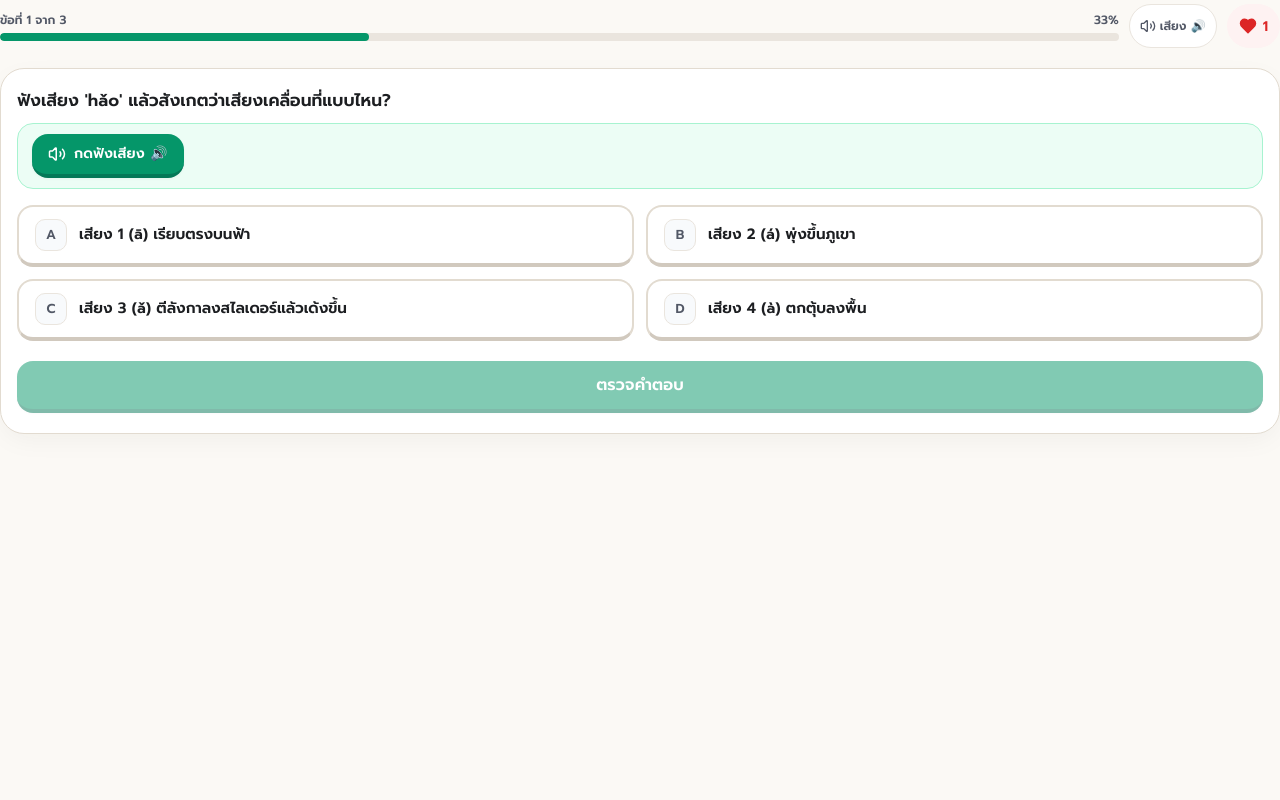
Test: QuizContainer Component (Phase 2 Slice 2.5) › Hearts Depleted Recovery › shows refill modal when hearts reach 0 and refills safely on button click
Click the radio button labelled "A เสียง 1 (ā) เรียบตรงบนฟ้า" at [51, 235], box [17, 205, 634, 267]
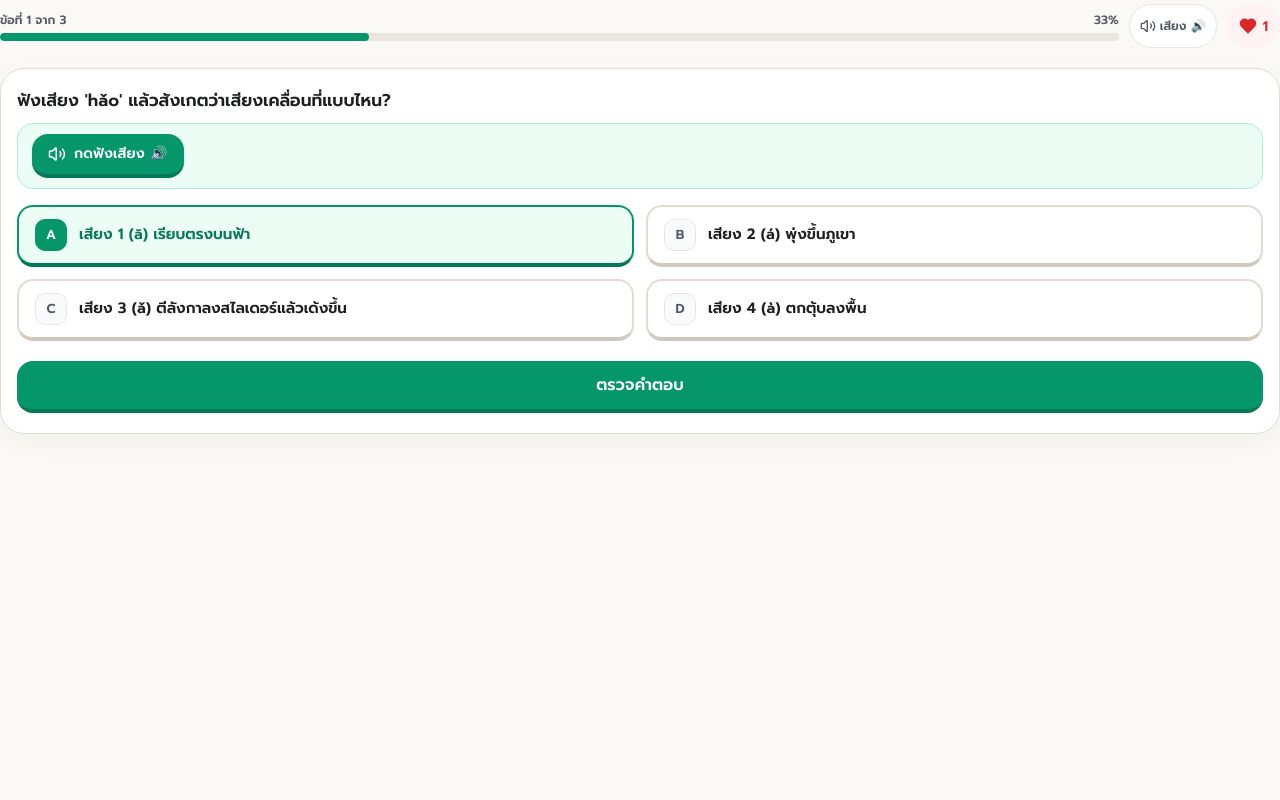
Click the button with aria-label "ตรวจคำตอบ" at [640, 387], box [17, 361, 1263, 413]
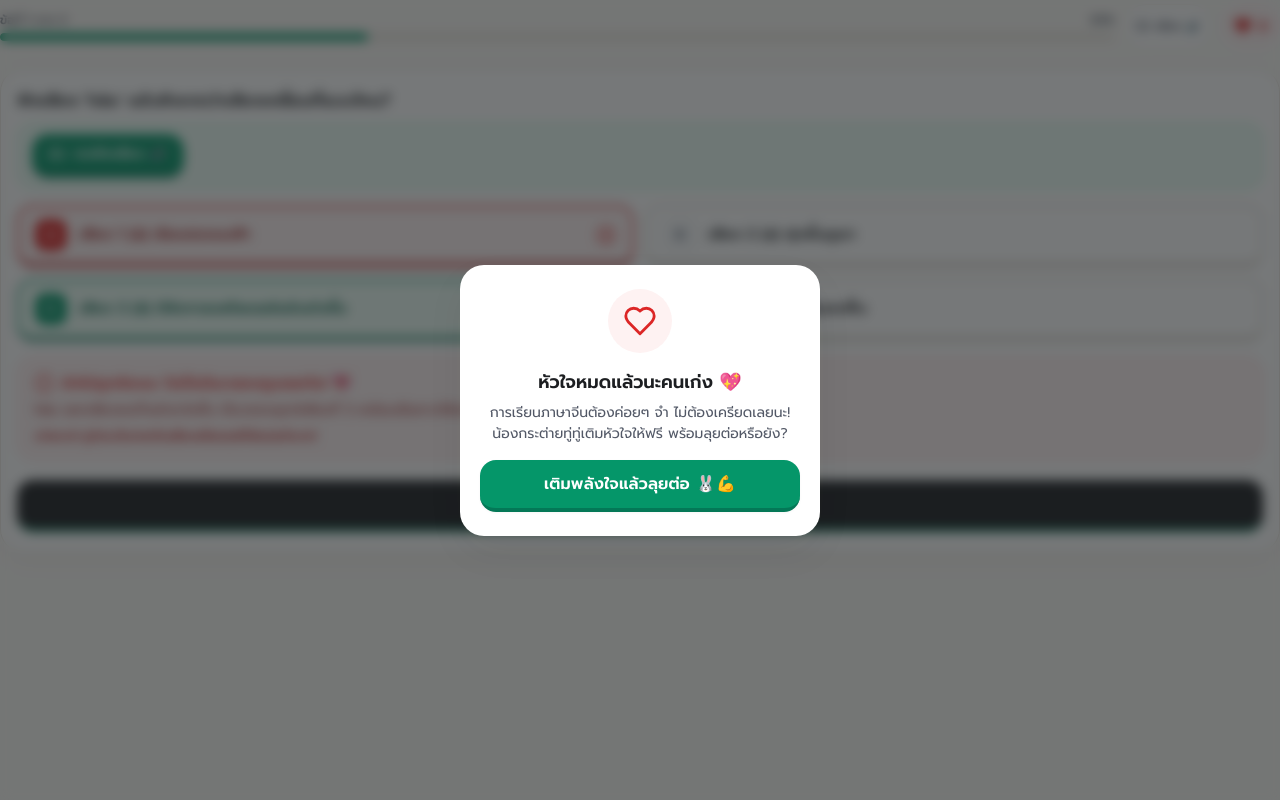
Expected: the text "หัวใจหมดแล้วนะคนเก่ง 💖" is shown, [538, 368, 742, 396]
Expected: the text "น้องกระต่ายทู่ทู่เติมหัวใจให้ฟรี" is shown, [490, 402, 790, 444]
Expected: the button with aria-label "เติมพลังใจแล้วลุยต่อ" is shown
Click the button with aria-label "เติมพลังใจแล้วลุยต่อ" at [640, 486], box [480, 460, 800, 512]
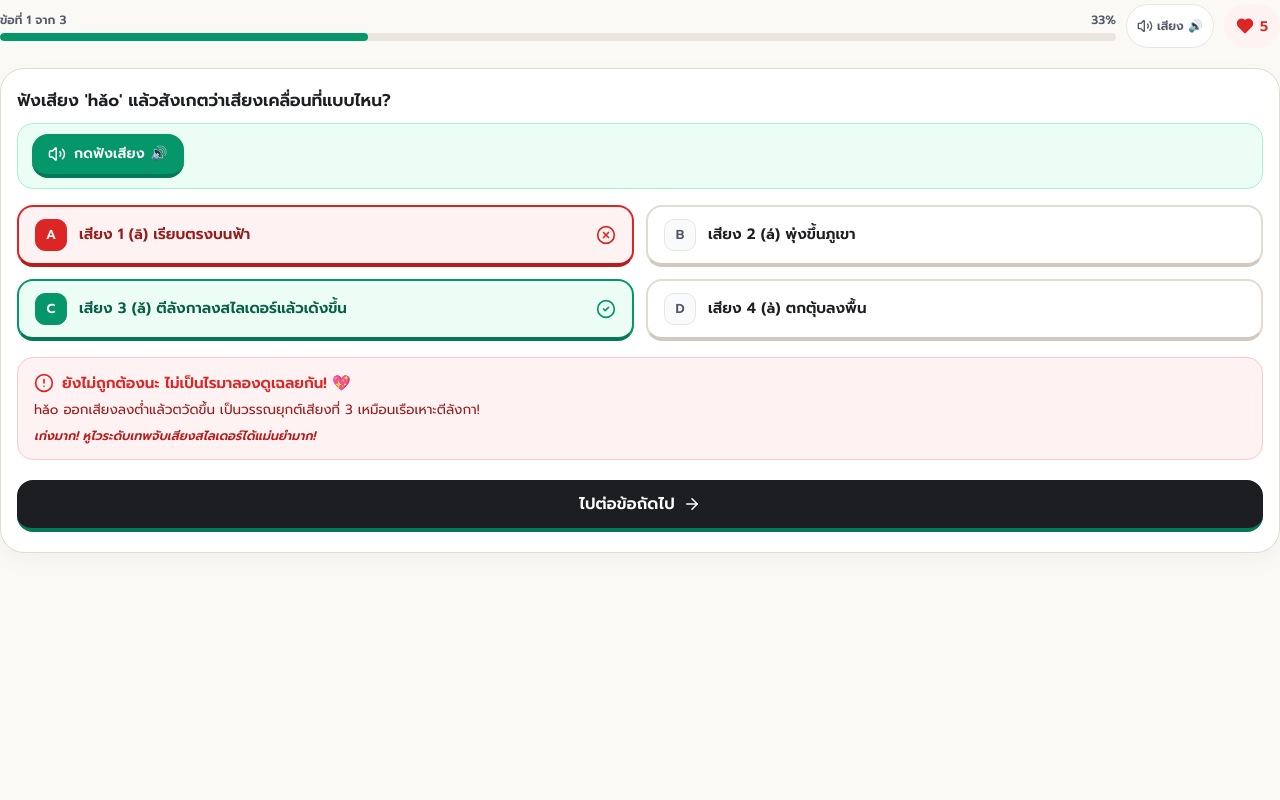
Expected: the text "5" is shown, [1260, 16, 1268, 36]
Expected: the dialog is gone
